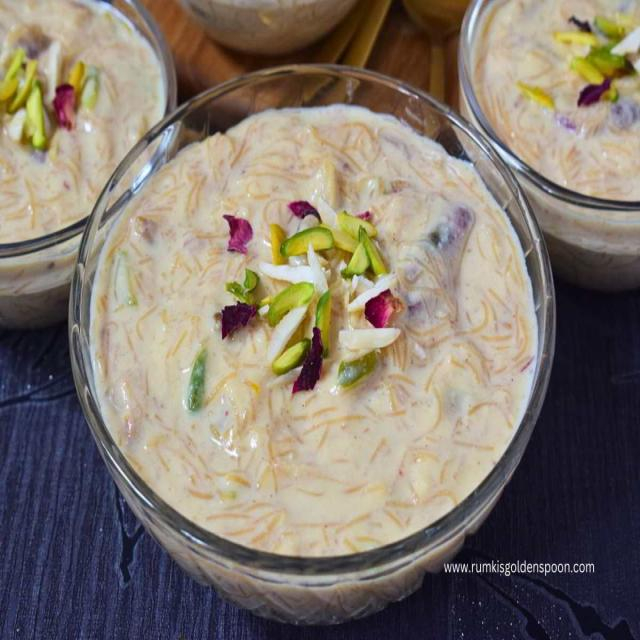shavige payasa: (81, 88, 546, 575), (0, 0, 180, 255), (464, 0, 640, 211)
